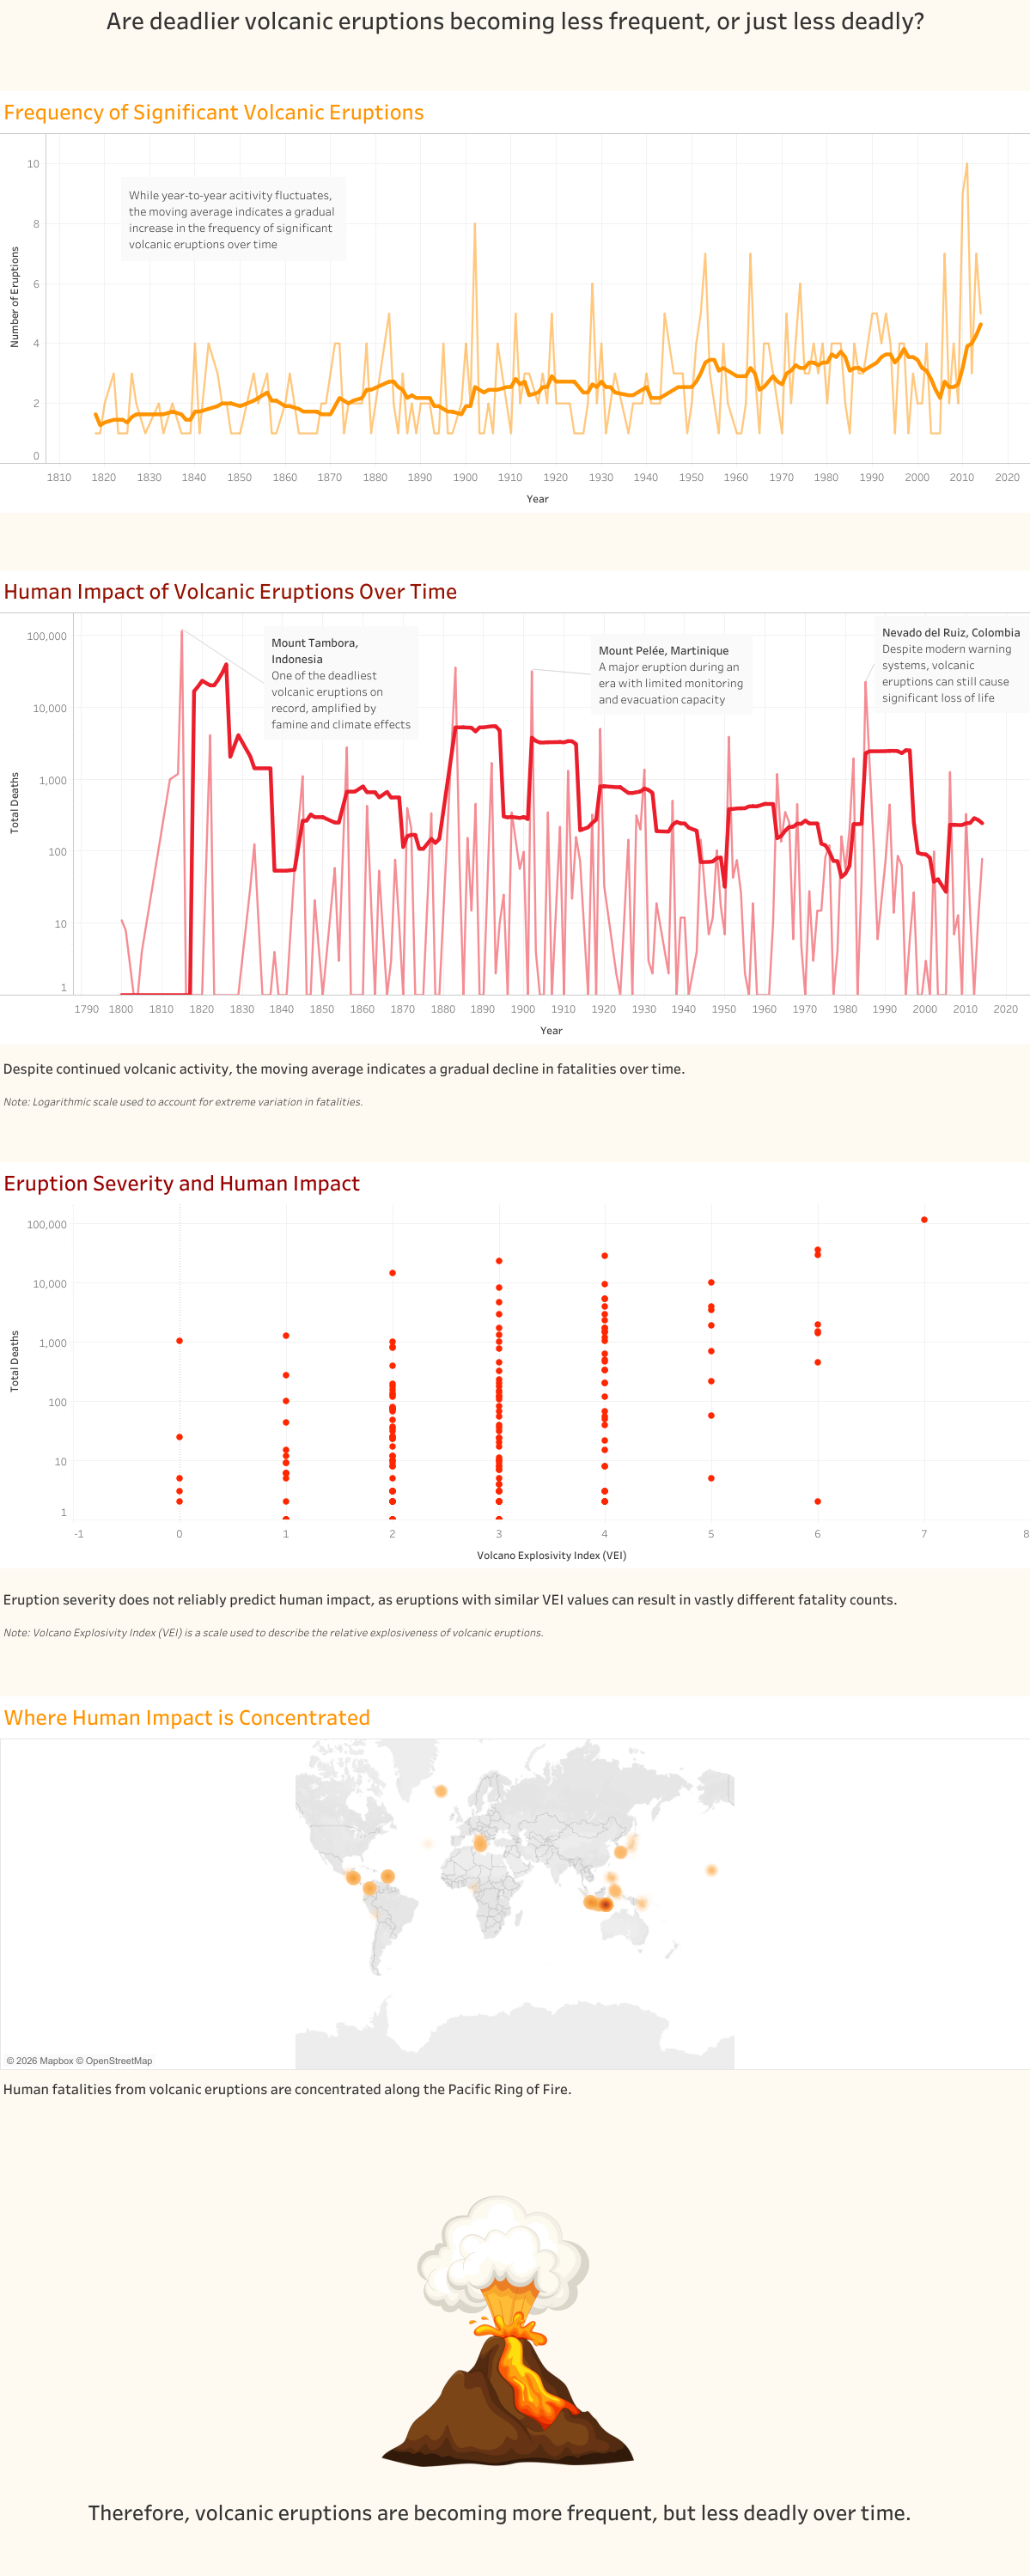

This screenshot's page, from the dashboard's own definition file:
{"tool":"tableau","page":{"name":"Volcanic Eruptions and Human Impact: Frequency, Severity, and Spatial Concentration","canvas":[1200,3000],"ordinal":0},"visuals":[{"type":"title","box":[0,0,1200,45]},{"type":"image","box":[0,45,1200,2955]},{"type":"worksheet","title":"Frequency of Significant Volcanic Eruptions","mark":"Line","rows":["Name"],"cols":["Year"],"box":[0,106,1200,491]},{"type":"worksheet","title":"Human Impact of Volcanic Eruptions Over Time","mark":"Line","rows":["TOTAL_DEATHS"],"cols":["Year"],"box":[0,664,1200,552]},{"type":"text","box":[1,1206,855,110]},{"type":"worksheet","title":"Eruption Severity and Human Impact","mark":"Circle","rows":["TOTAL_DEATHS"],"cols":["Volcano Explosivity Index (VEI)"],"box":[0,1353,1200,473]},{"type":"text","box":[1,1839,1082,80]},{"type":"worksheet","title":"Where Human Impact is Concentrated","mark":"Heatmap","rows":["Latitude"],"cols":["Longitude"],"box":[0,1975,1200,435]},{"type":"text","box":[1,2413,687,36]},{"type":"image","param":"Image/233-2334252_volcano-clipart-transparent-volcano-clipart.png","box":[444,2556,310,316]},{"type":"text","box":[100,2856,982,136]}]}

Visuals, with their boxes in screenshot pixels (x1, y1, x2, y2), scaled from the page's 1200x3000 canvas onto the 1030x2576 screenshot:
title: box=[0, 0, 1029, 39]
image: box=[0, 39, 1029, 2575]
"Frequency of Significant Volcanic Eruptions" worksheet (Line marks): box=[0, 91, 1029, 513]
"Human Impact of Volcanic Eruptions Over Time" worksheet (Line marks): box=[0, 570, 1029, 1044]
text: box=[1, 1036, 734, 1130]
"Eruption Severity and Human Impact" worksheet (Circle marks): box=[0, 1162, 1029, 1568]
text: box=[1, 1579, 929, 1647]
"Where Human Impact is Concentrated" worksheet (Heatmap marks): box=[0, 1696, 1029, 2069]
text: box=[1, 2072, 590, 2103]
image: box=[381, 2195, 647, 2466]
text: box=[86, 2452, 929, 2569]
